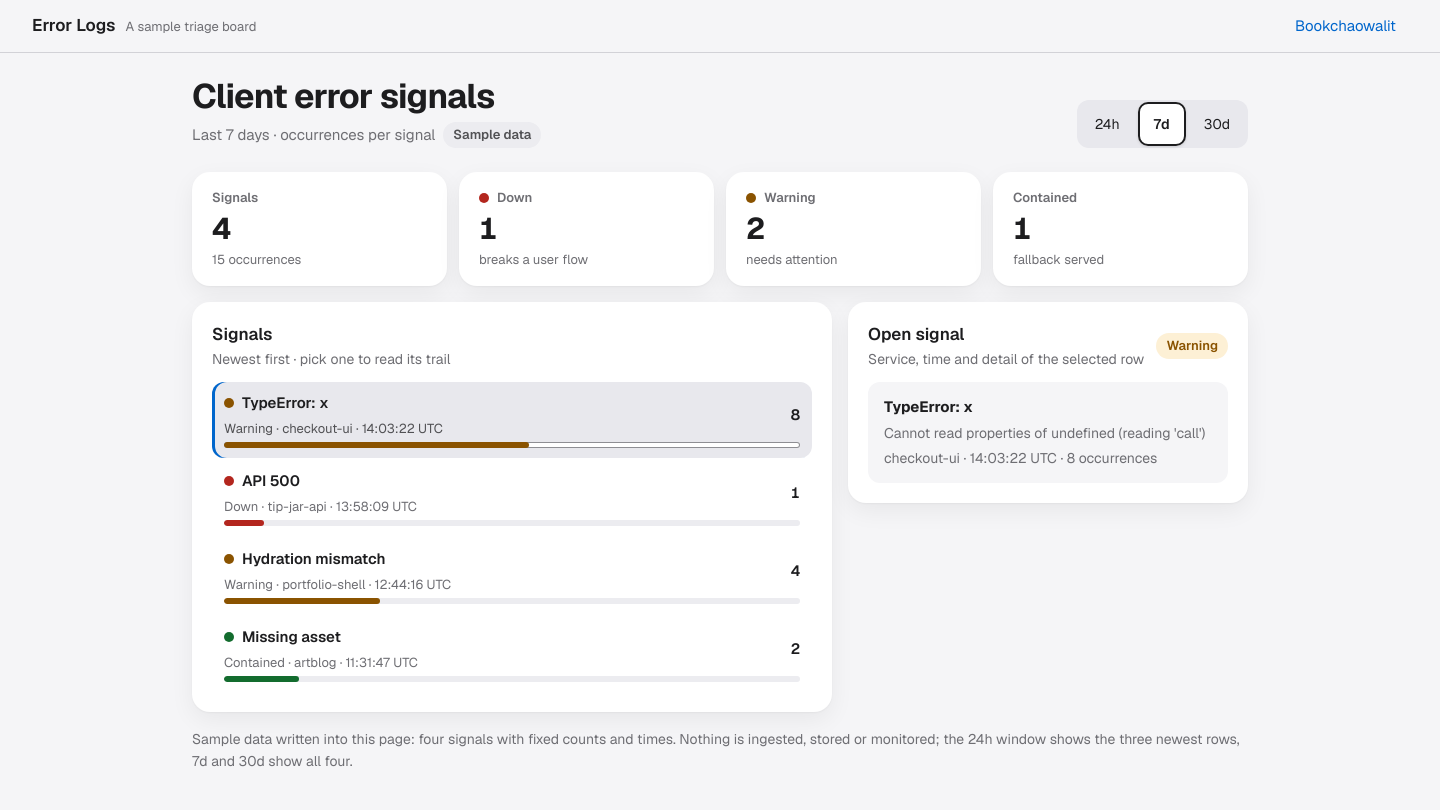
Test: error board › falls back to the first visible row when the window hides the open one
The width and height of the screenshot is (1440, 810).
Click the button with class "ds-row" that starts with "Missing asset" at (291, 637), box [212,616,812,692]
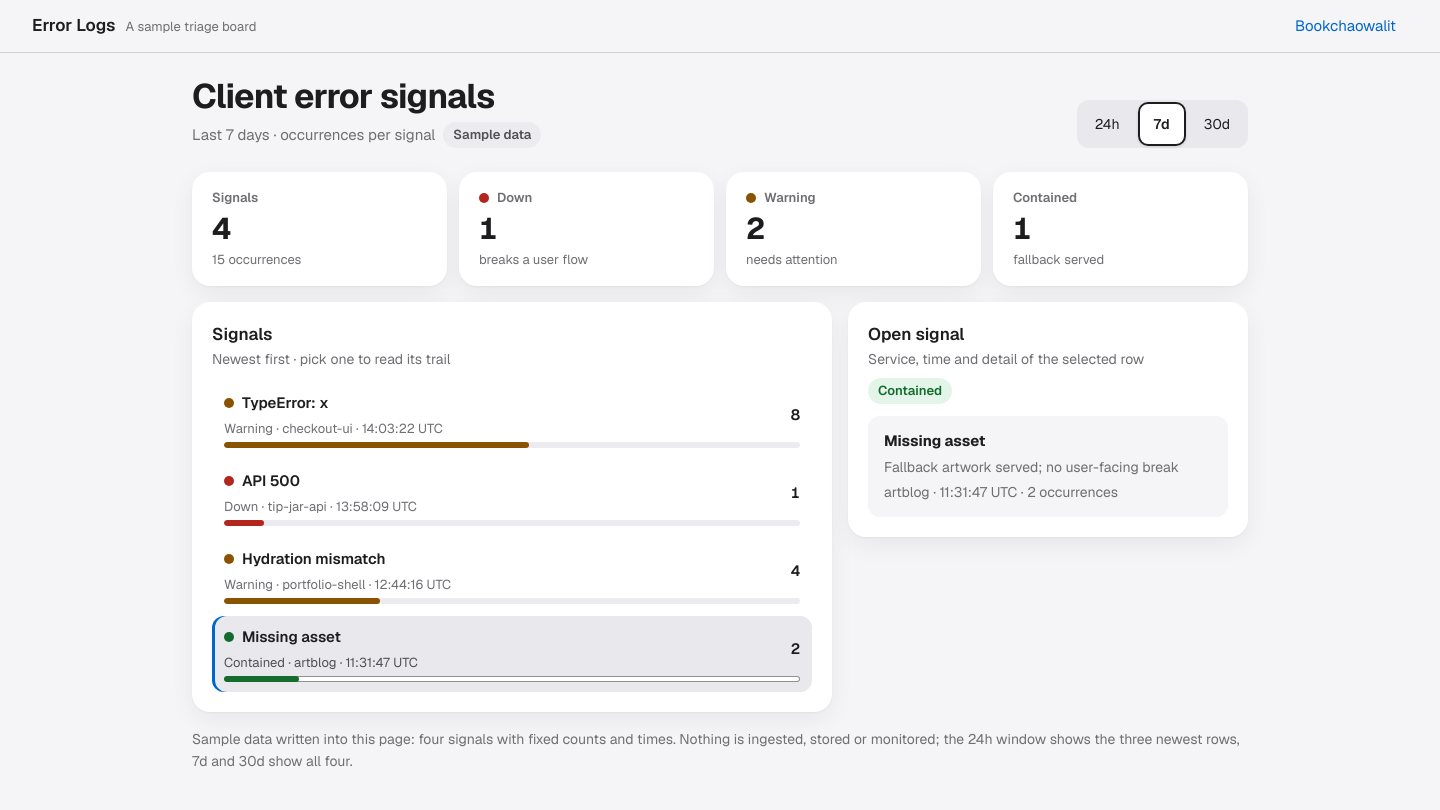
Click the button "24h" at (1107, 124), box [1079,102,1136,146]
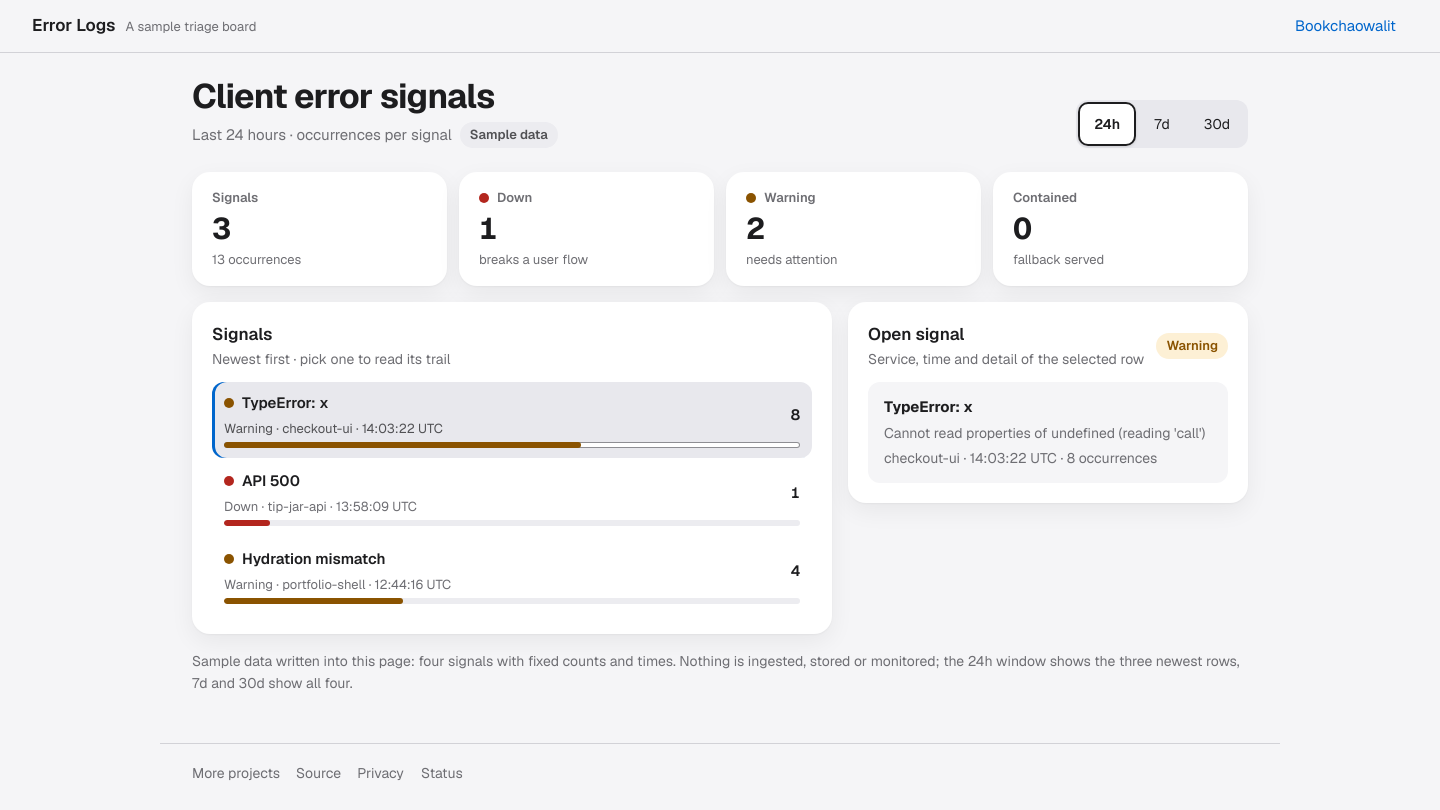
Expected: the element with class "ds-callout" shows "TypeError: x", [884,397,973,416]
